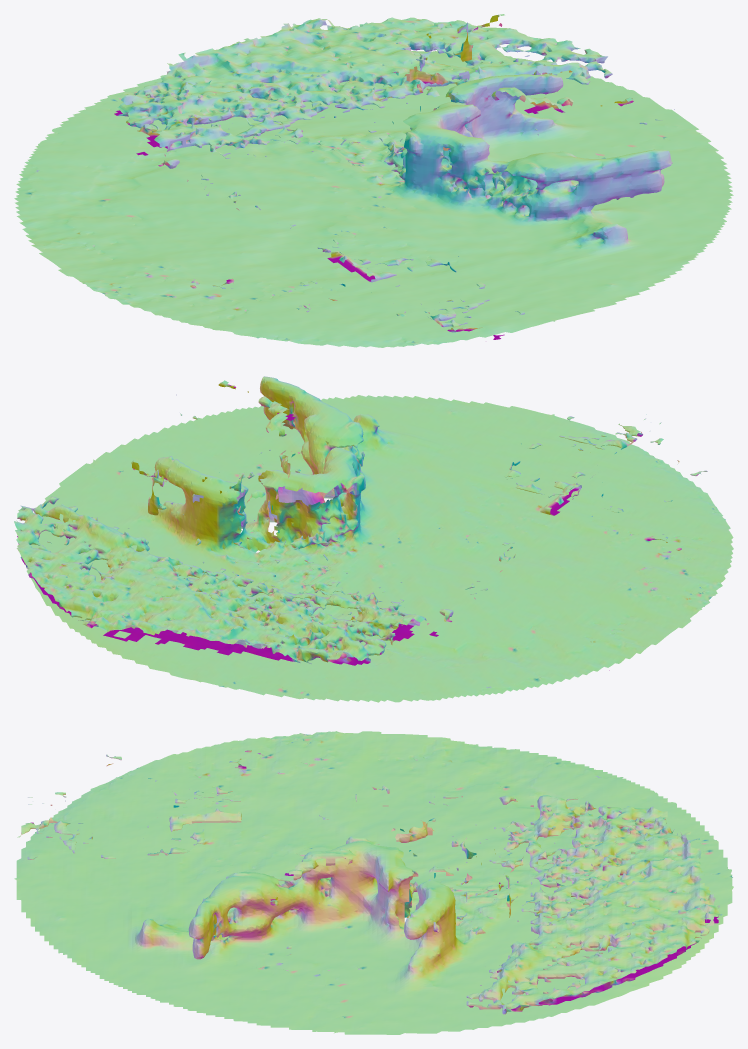
The model's file is AbundanceScan-2026-11-02_085407.glb.
3 views of the same model, one above another, from view 1: azimuth 30°, elevation 25°; view 2: azimuth 150°, elevation 25°; view 3: azimuth 270°, elevation 25° (orthographic).
Parts seen in each view (by area): view 1: AbundanceScan-2026-11-02_085407.glb; view 2: AbundanceScan-2026-11-02_085407.glb; view 3: AbundanceScan-2026-11-02_085407.glb.
Part boxes in pixels (x1,y1,x2,y2): AbundanceScan-2026-11-02_085407.glb: [14, 14, 733, 347]; AbundanceScan-2026-11-02_085407.glb: [14, 376, 733, 702]; AbundanceScan-2026-11-02_085407.glb: [14, 731, 733, 1034].
Size of the model in its own units: 0.312 by 0.0519 by 0.3118.
